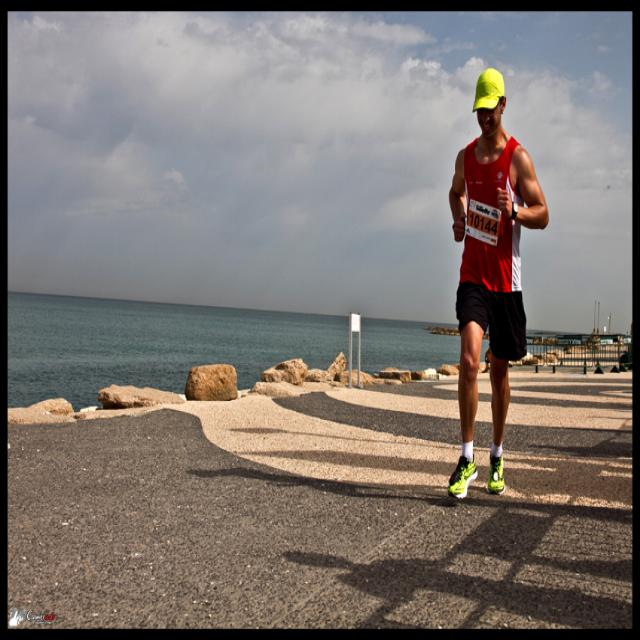Bib: (466, 214, 497, 236)
